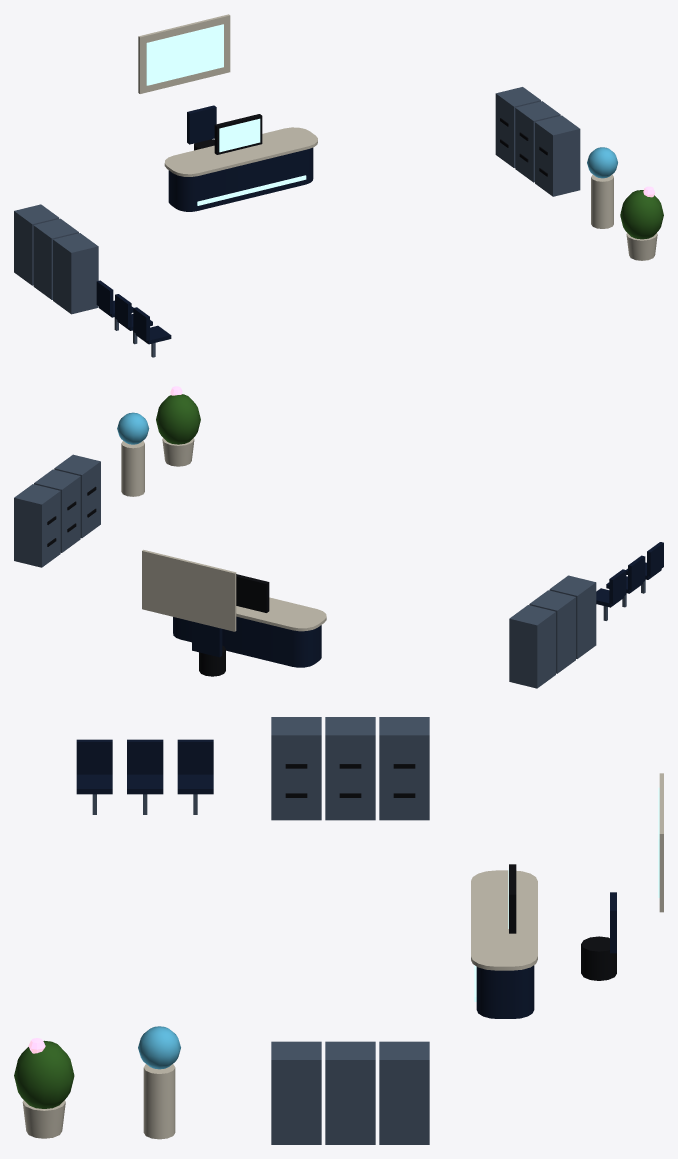
Rendered from fit_office_3.glb.
3 renders of one model, top to bottom at view 1: azimuth 30°, elevation 25°; view 2: azimuth 150°, elevation 25°; view 3: azimuth 270°, elevation 25°, orthographic. The views are drawn at different scales.
Visible parts, largest first — view 1: fit_office_3; view 2: fit_office_3; view 3: fit_office_3.
Part boxes in pixels (x1,y1,x2,y2): fit_office_3: [14, 14, 663, 357]; fit_office_3: [14, 386, 663, 688]; fit_office_3: [14, 717, 663, 1144].
Bounding box in the file's own units: 11.26 × 2.6 × 9.02.
